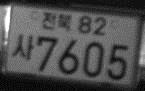0: (82, 41, 104, 77)
2: (92, 16, 108, 36)
5: (106, 43, 129, 80)
6: (58, 38, 78, 75)
7: (36, 35, 58, 72)
8: (78, 15, 92, 34)
사: (10, 33, 35, 61)
전북_H: (41, 11, 72, 31)
